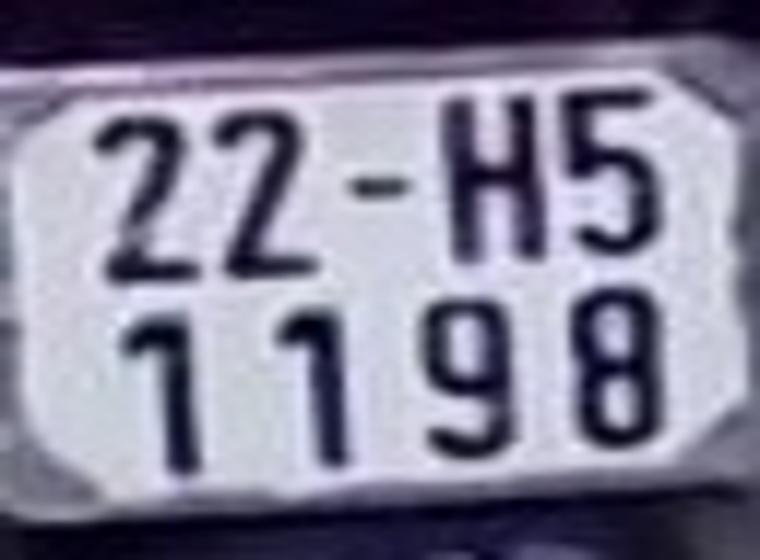-: (348, 172, 414, 205)
1: (117, 306, 206, 478), (275, 301, 353, 471)
2: (212, 107, 324, 282), (99, 114, 206, 286)
5: (561, 84, 663, 251)
8: (563, 282, 663, 446)
9: (420, 296, 521, 462)
H: (438, 96, 549, 266)
